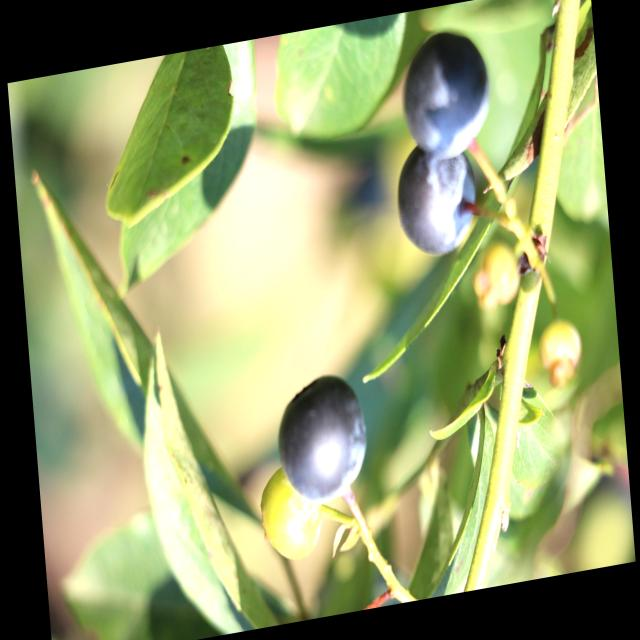blueberry: (272, 369, 374, 511), (399, 24, 495, 165), (392, 136, 480, 264)
blueberry-unripe: (256, 462, 325, 569), (535, 318, 585, 382), (480, 238, 524, 308)
